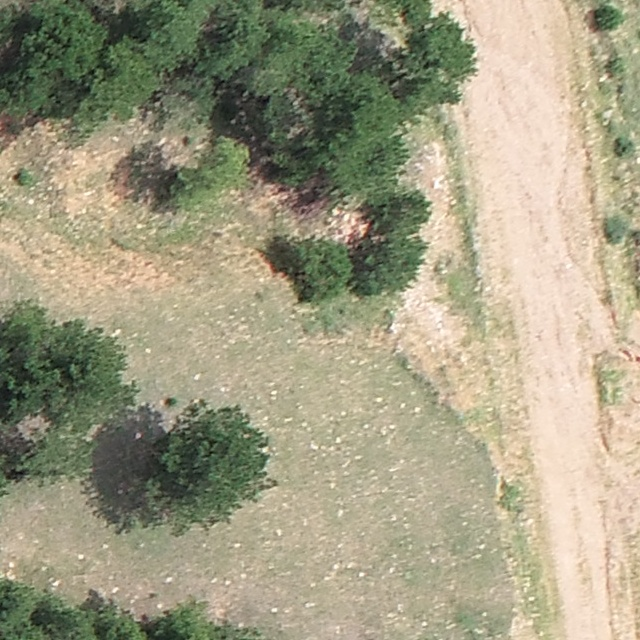unhealthy: (17, 415, 52, 442)
